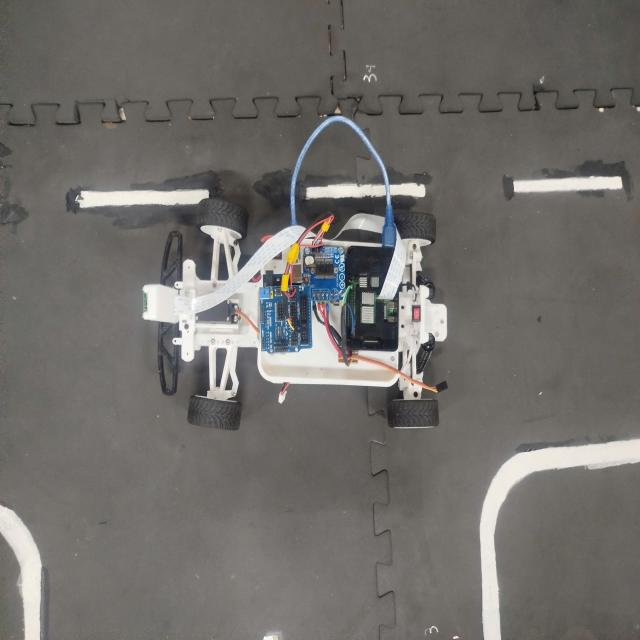SiCo-CAR: (140, 115, 450, 432)
